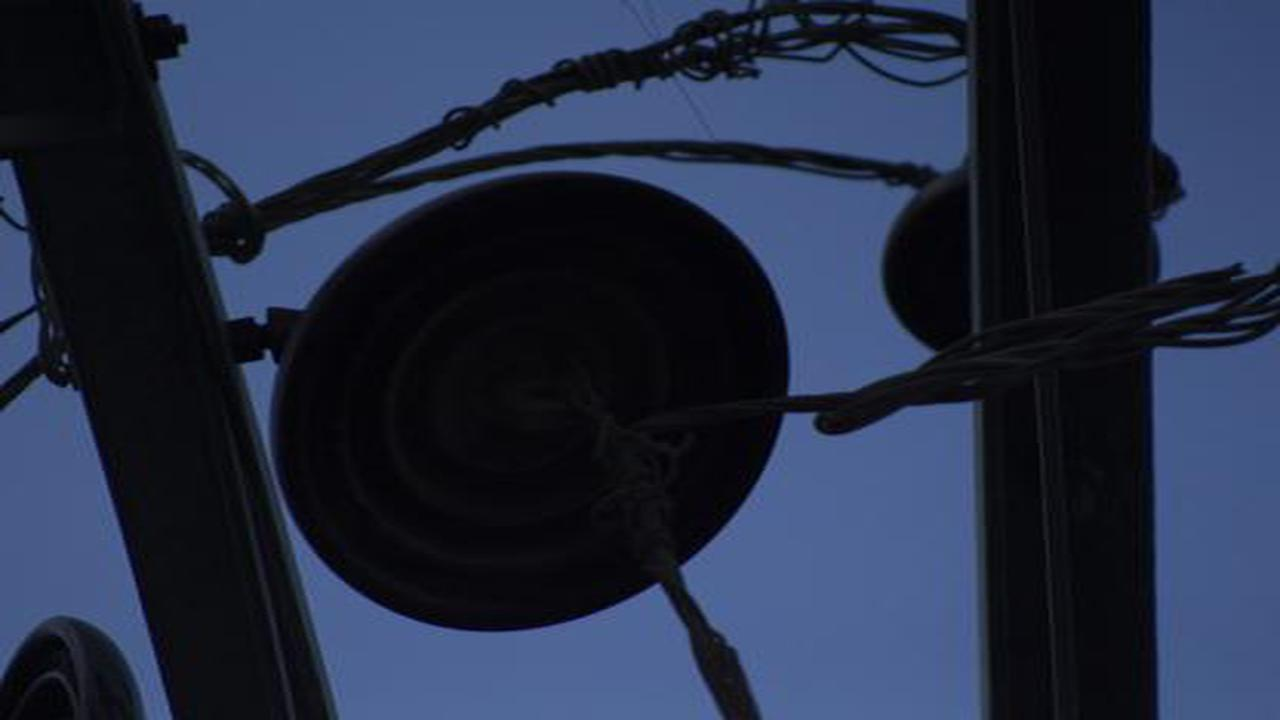insulator_disc: (264, 181, 814, 643)
